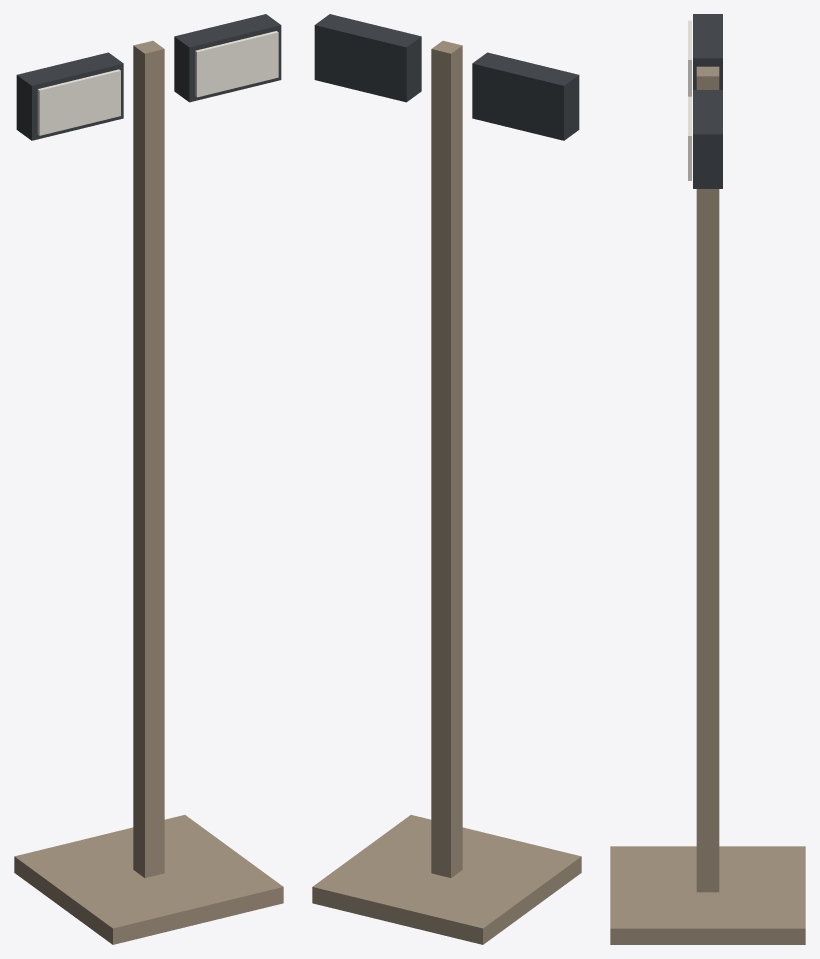
Rendered from stock-car-oval-speedway-light-pole-cluster-1212d8c5__16932.glb.
3 renders of one model, left to right at view 1: azimuth 30°, elevation 25°; view 2: azimuth 150°, elevation 25°; view 3: azimuth 270°, elevation 25°, orthographic.
Parts seen in each view (by area): view 1: light-pole-cluster; view 2: light-pole-cluster; view 3: light-pole-cluster.
Part boxes in pixels (x1=…): light-pole-cluster: x1=14, y1=14, x2=283, y2=944; light-pole-cluster: x1=312, y1=14, x2=581, y2=944; light-pole-cluster: x1=610, y1=14, x2=805, y2=944.
Size of the model in its own units: 1.9 by 6.12 by 1.3.
